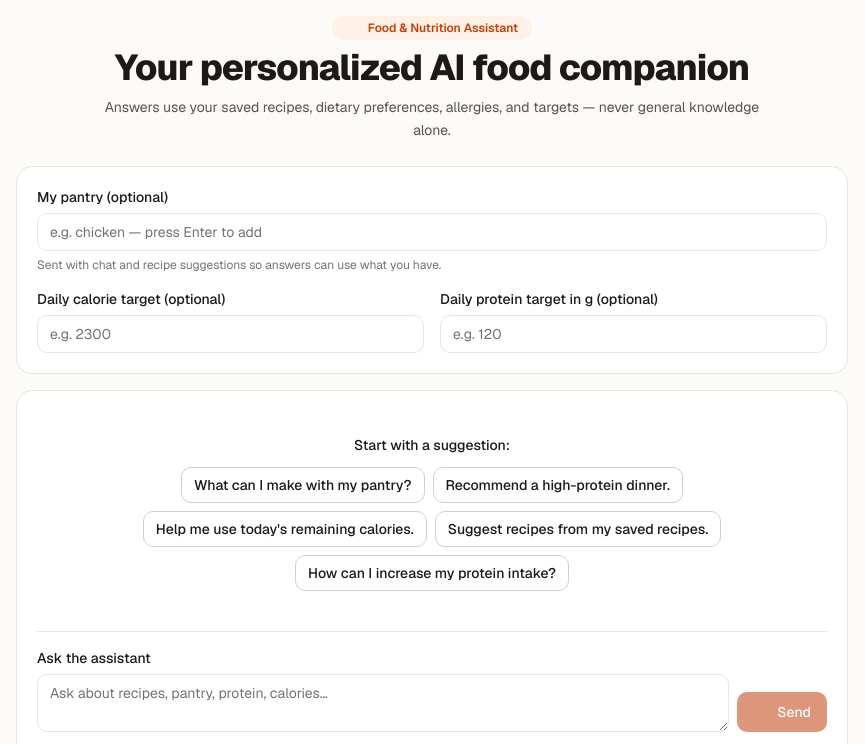
Test case: AssistantPage — Food & Nutrition AI Assistant › sends prior turns as history without duplicating the current message
In the text box labelled "Ask the assistant": x=383, y=702 [37,674,729,732], type "First question"
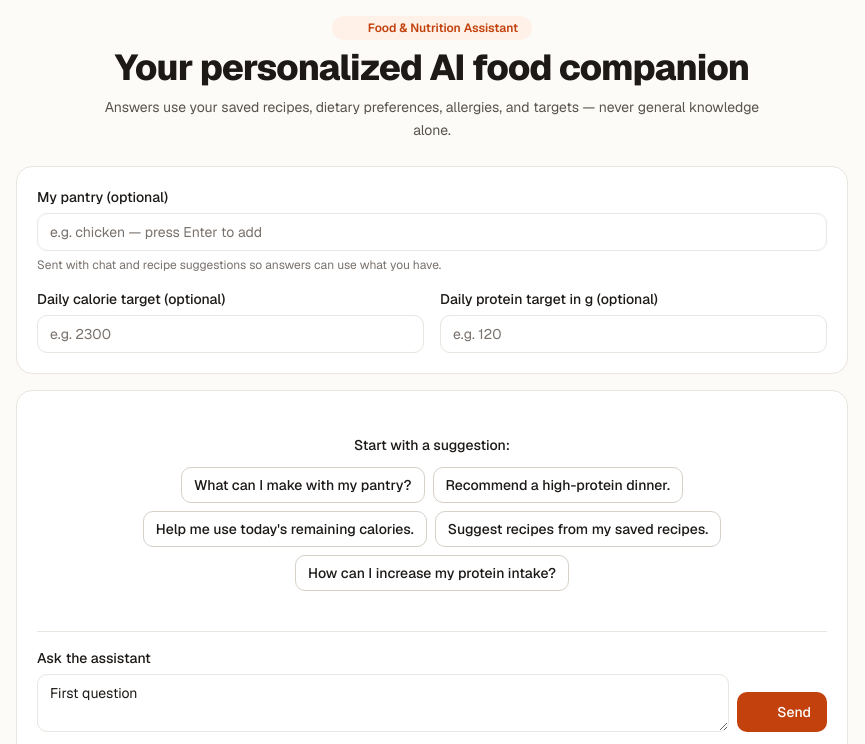
Click the button with aria-label "Send message": x=782, y=712 [737,692,827,732]
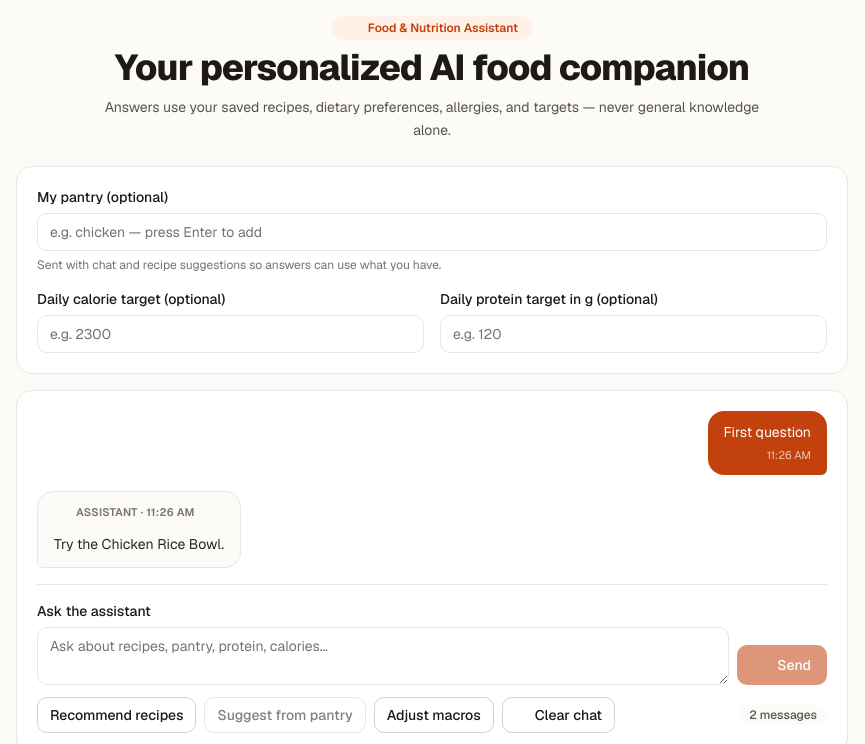
In the text box labelled "Ask the assistant": x=383, y=656 [37,627,729,685], type "Second question"
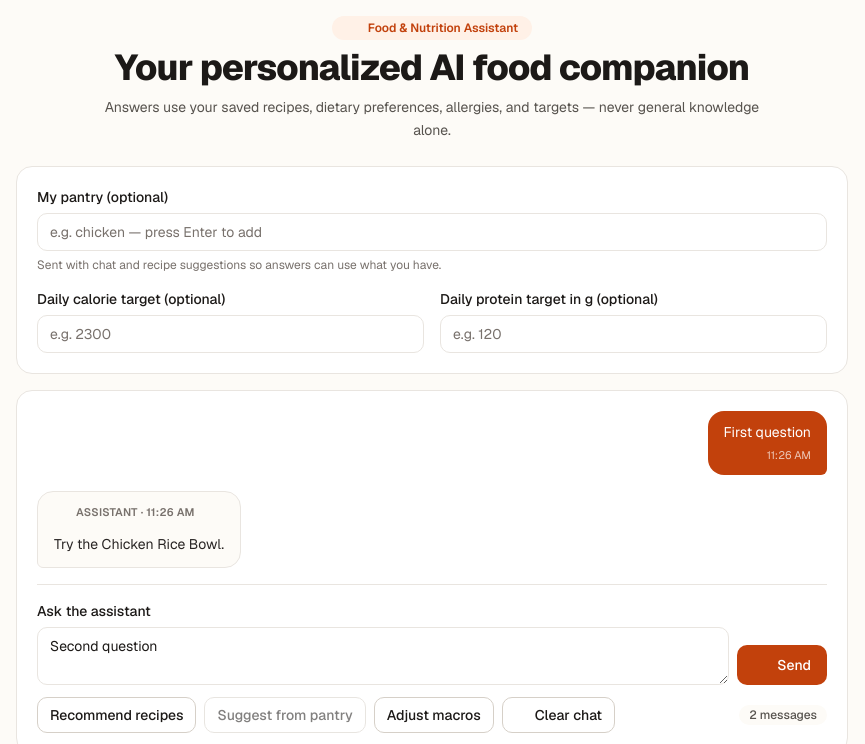
Click the button with aria-label "Send message": x=782, y=665 [737,645,827,685]
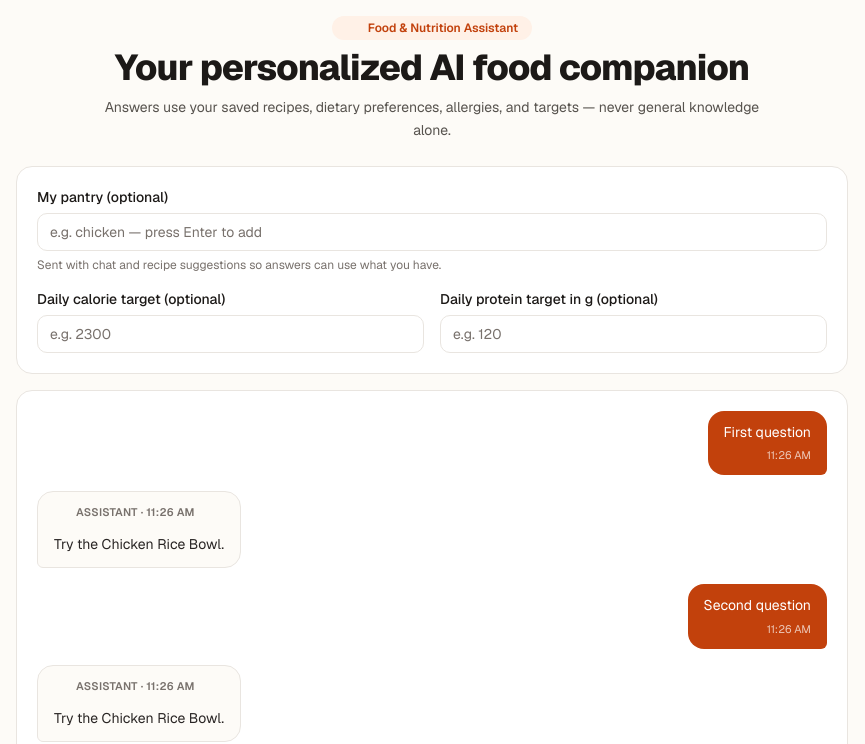
Expected: the text "Second question" is shown, [704,594,811,617]
